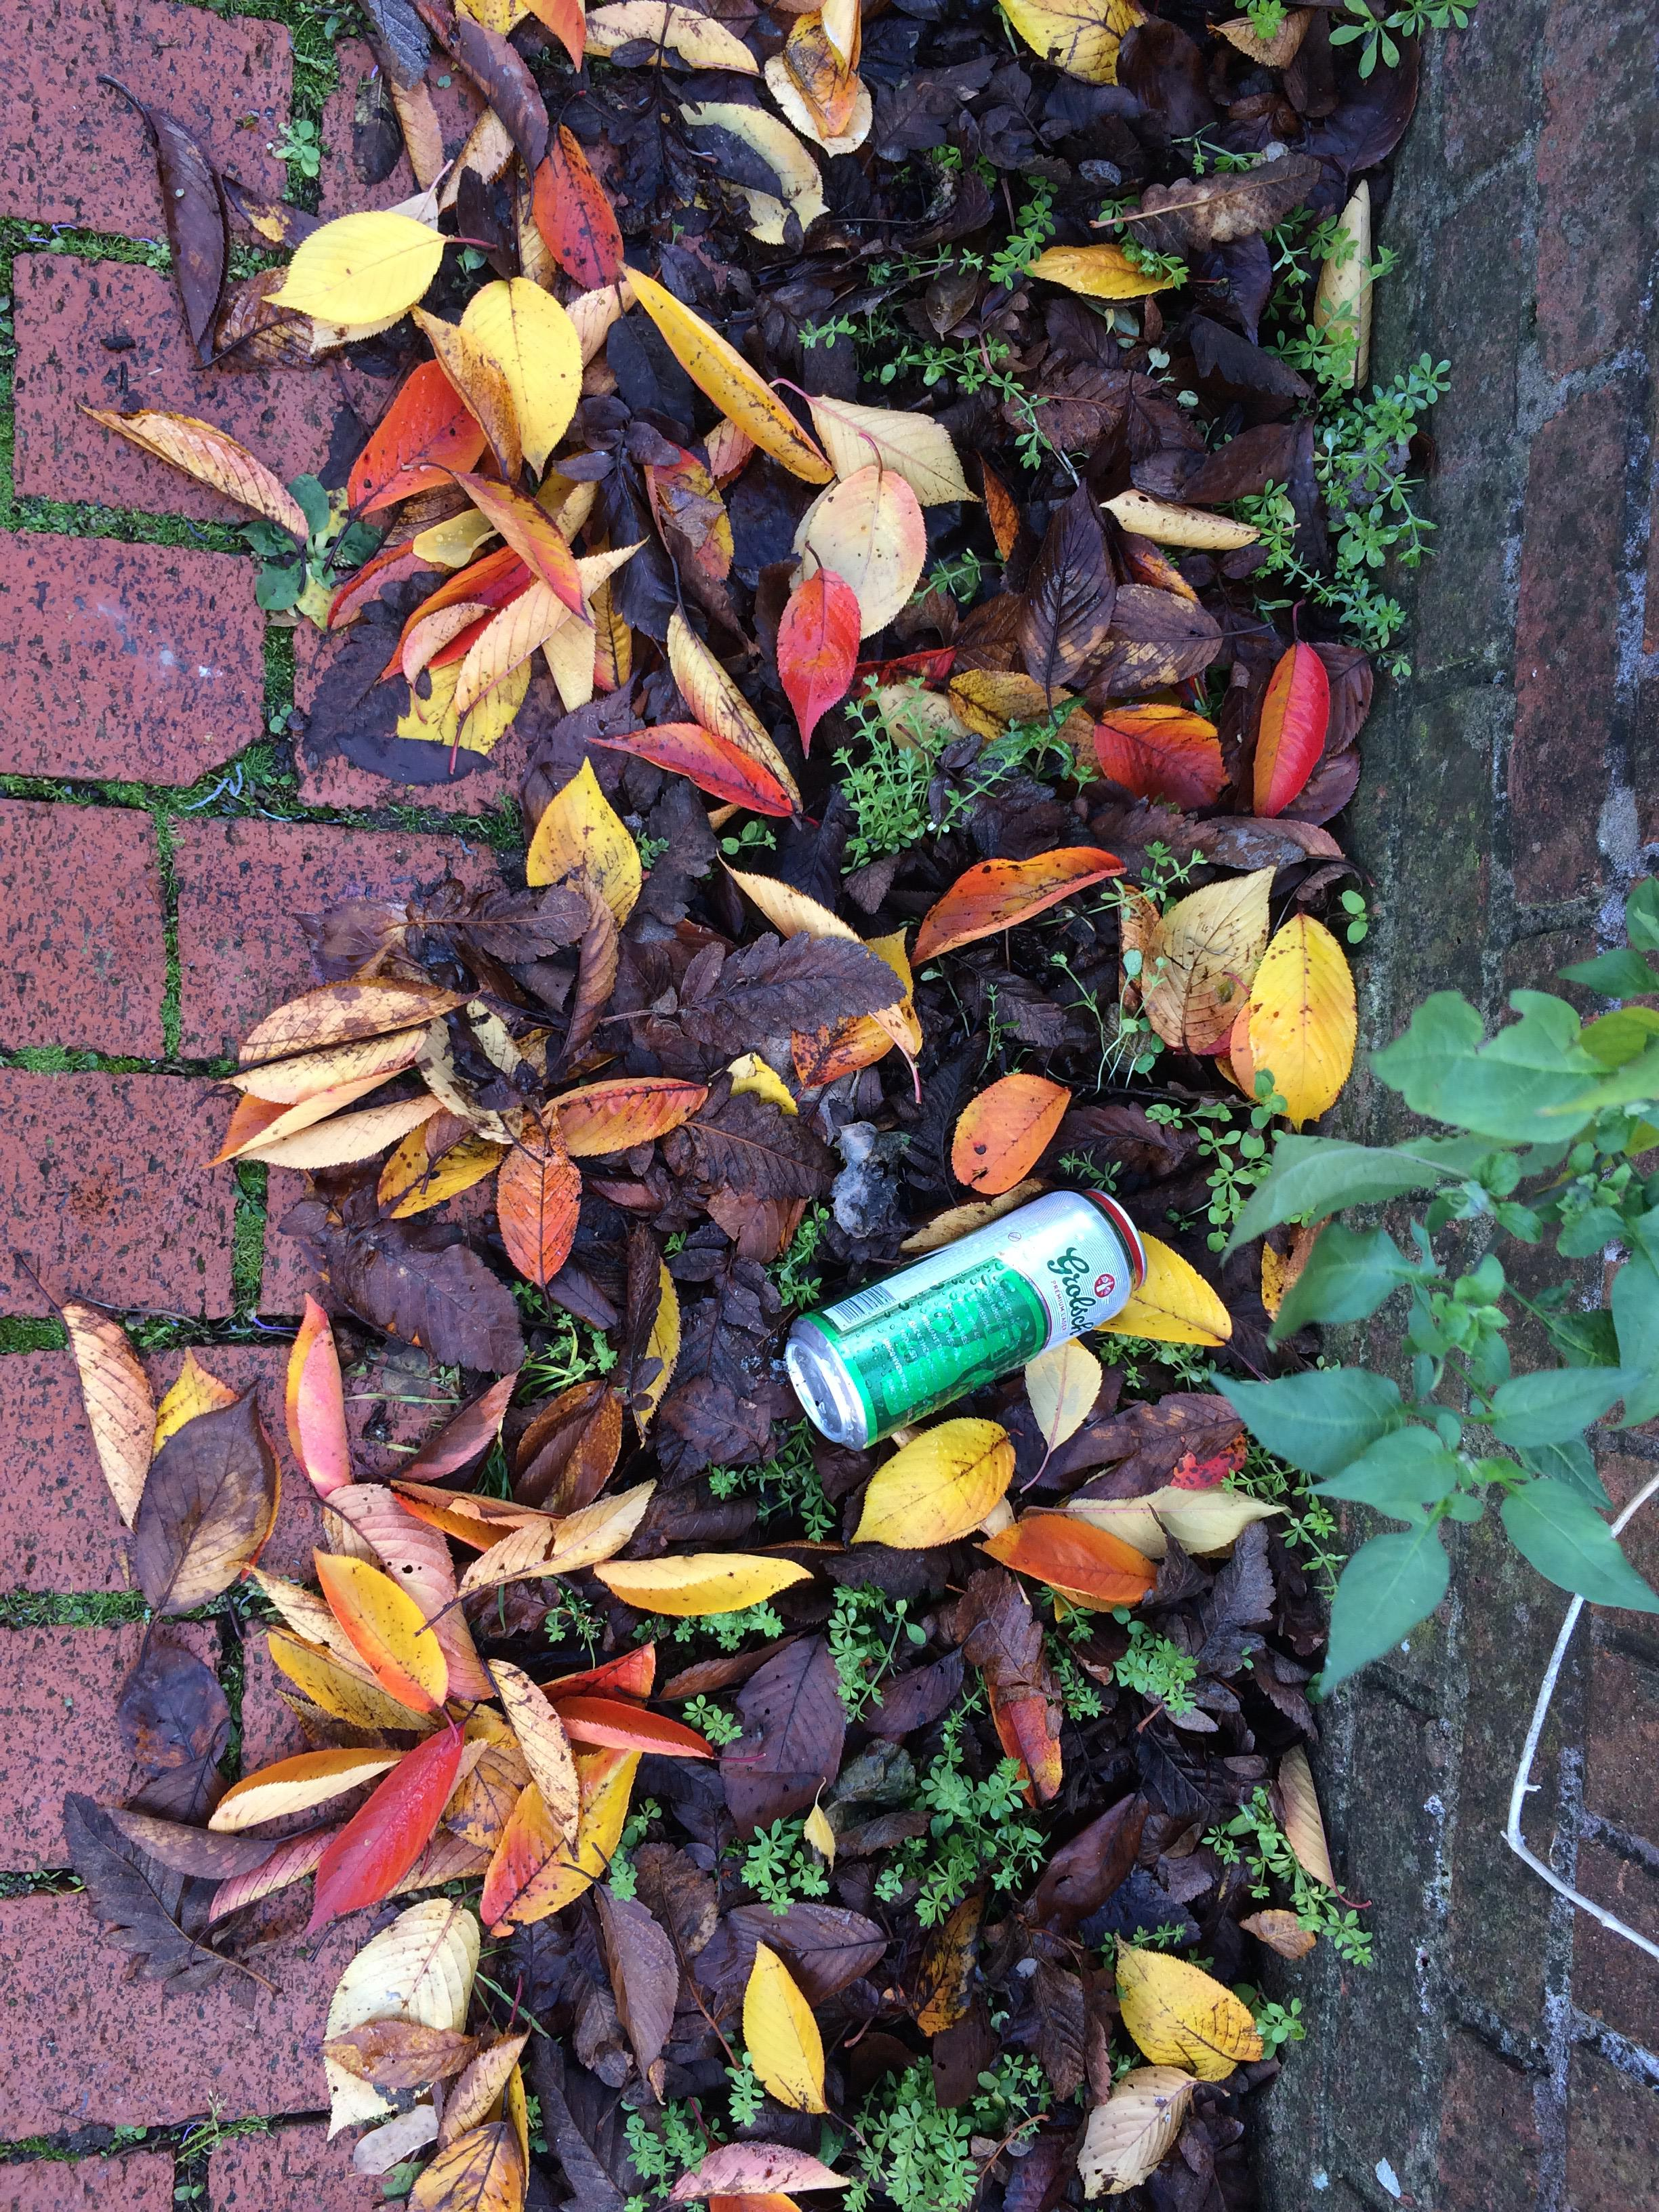Trash: (781, 1183, 1154, 1454)
